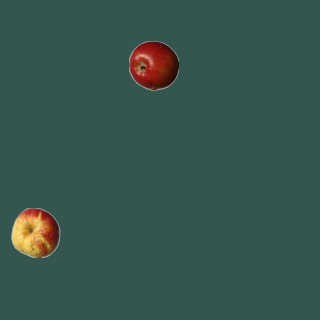Apple Braeburn: (128, 40, 178, 90)
Apple Red Yellow 1: (10, 207, 60, 257)
